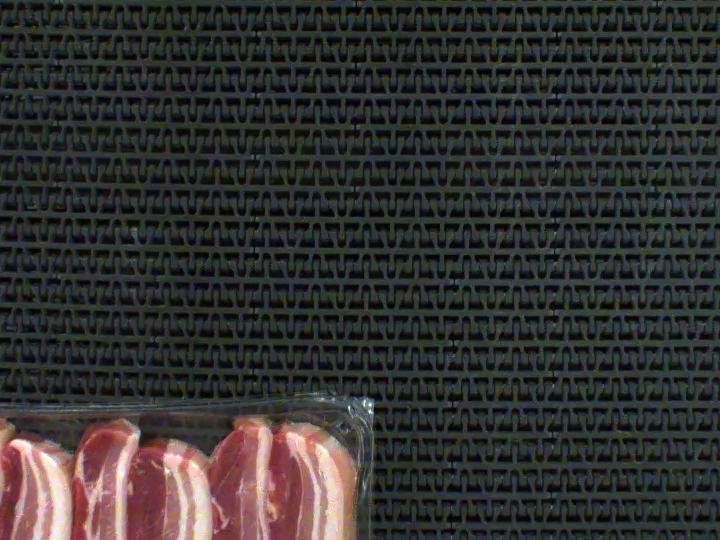packaging-error: (0, 383, 374, 485)
